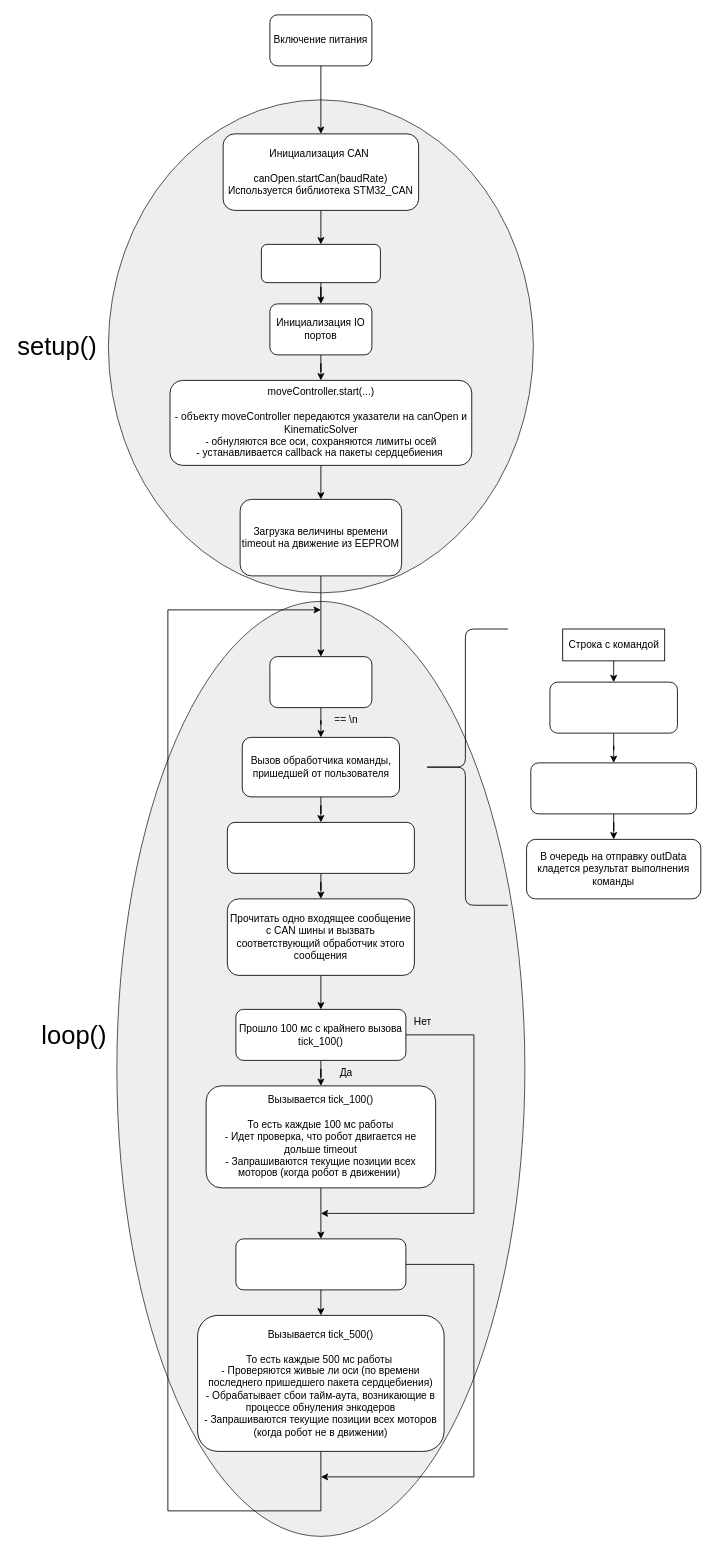
The diagram is 716 pixels wide and 1551 high, and some of its shapes have lost their labels. Here are the shapes that lost their labels. From the top down, the centre of each, then its label:
At (x=320, y=263): "Инициализация Serial".
At (x=320, y=682): "Читается 1 символ из Serial".
At (x=613, y=707): "Очистка строки, парсинг типа команды".
At (x=613, y=788): "Вызов обработчика соответсвующей команды".
At (x=320, y=847): "Отправить одно сообщение в Serial из очереди на отправку outData".
At (x=320, y=1264): "Прошло 500 мс c крайнего вызова tick_500()".
